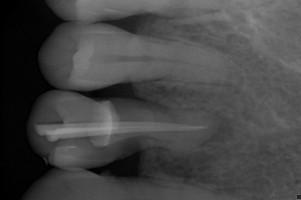Furcation Involvement: (201, 112, 235, 146)
